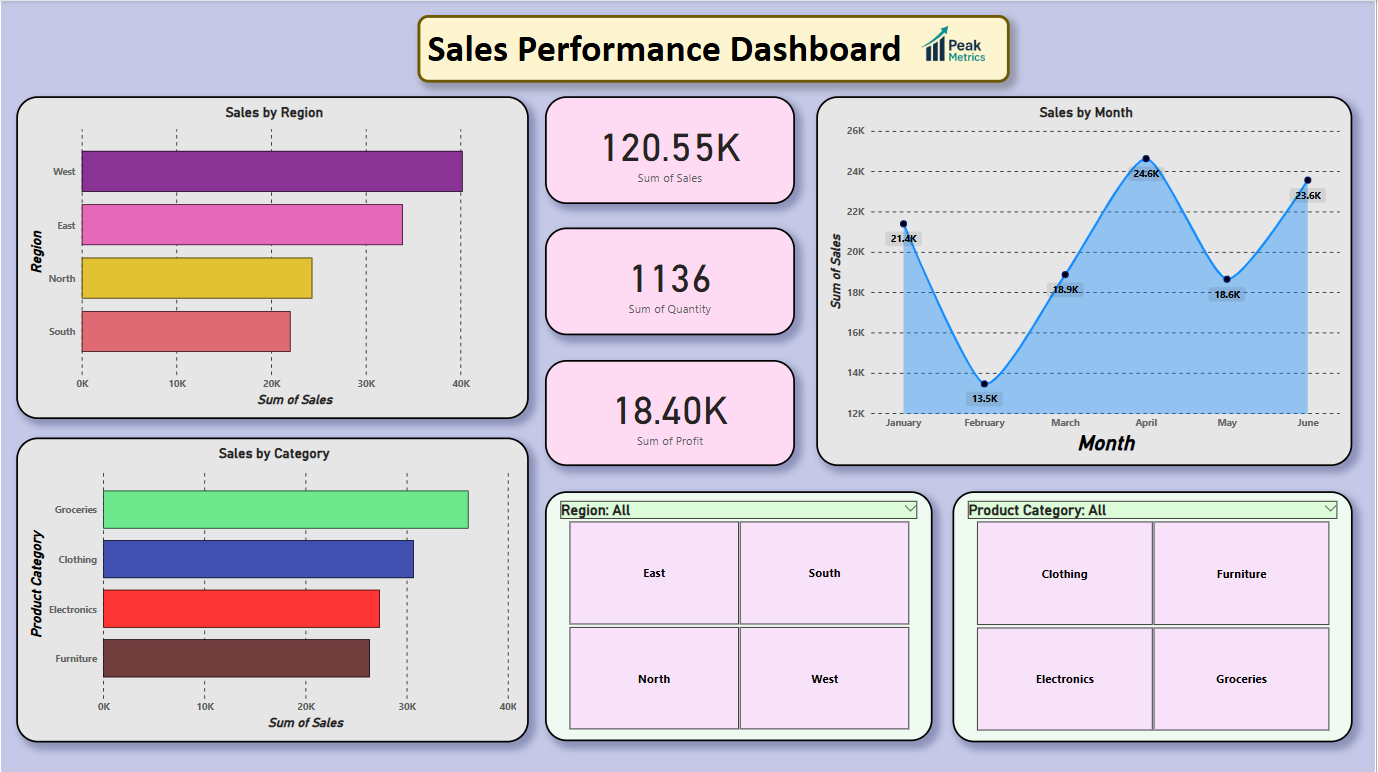

The dashboard page shown, as its layout file describes it:
{"tool":"powerbi","page":{"name":"Page 1","canvas":[1920,1080],"ordinal":0},"visuals":[{"type":"barChart","title":"Sales by Region","fields":{"Category":["Sheet1.Region"],"Y":["Sum(Sheet1.Sales)"]},"box":[22.7,134.3,715.1,450],"z":0},{"type":"barChart","title":"Sales by Category","fields":{"Category":["Sheet1.Product Category"],"Y":["Sum(Sheet1.Sales)"]},"box":[22.7,610.5,715.1,425.6],"z":1000},{"type":"lineChart","title":"Sales by Month","fields":{"Category":["Sheet1.S.Variation.Date Hierarchy.Month"],"Y":["Sum(Sheet1.Sales)"]},"box":[1139,134.3,748.3,516.3],"z":2000},{"type":"card","fields":{"Values":["Sum(Sheet1.Sales)"]},"box":[760.5,134.3,348.8,150],"z":3000},{"type":"card","fields":{"Values":["Sum(Sheet1.Profit)"]},"box":[760.5,502.3,348.8,148.3],"z":4000},{"type":"card","fields":{"Values":["Sum(Sheet1.Quantity)"]},"box":[760.5,317.4,348.8,150],"z":5000},{"type":"slicer","fields":{"Values":["Sheet1.Region"]},"box":[760.5,685.5,540.7,348.8],"z":6000},{"type":"slicer","fields":{"Values":["Sheet1.Product Category"]},"box":[1329.1,685.5,558.1,350.6],"z":7000},{"type":"textbox","box":[582.6,20.9,826.7,94.2],"z":8000},{"type":"image","box":[1243.6,0,170.9,134.3],"z":8001}]}

Visuals, with their boxes in screenshot pixels (x1, y1, x2, y2), scaled from the page's 1920x1080 canvas onto the 1378x772 screenshot:
"Sales by Region" barChart: 16/96/530/418
"Sales by Category" barChart: 16/436/530/741
"Sales by Month" lineChart: 817/96/1355/465
card - Sum(Sheet1.Sales): 546/96/796/203
card - Sum(Sheet1.Profit): 546/359/796/465
card - Sum(Sheet1.Quantity): 546/227/796/334
slicer - Sheet1.Region: 546/490/934/739
slicer - Sheet1.Product Category: 954/490/1354/741
textbox: 418/15/1011/82
image: 893/0/1015/96
